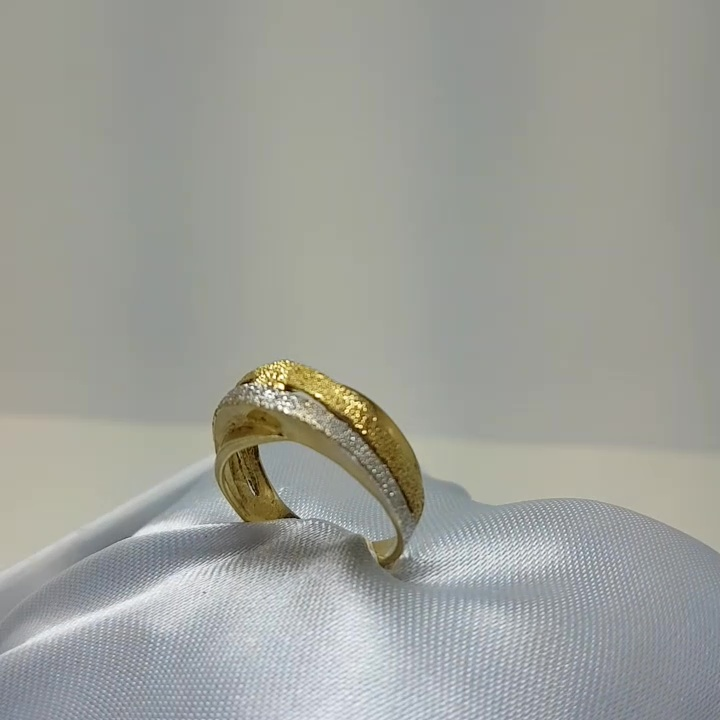Ring 5: (179, 331, 434, 607)
